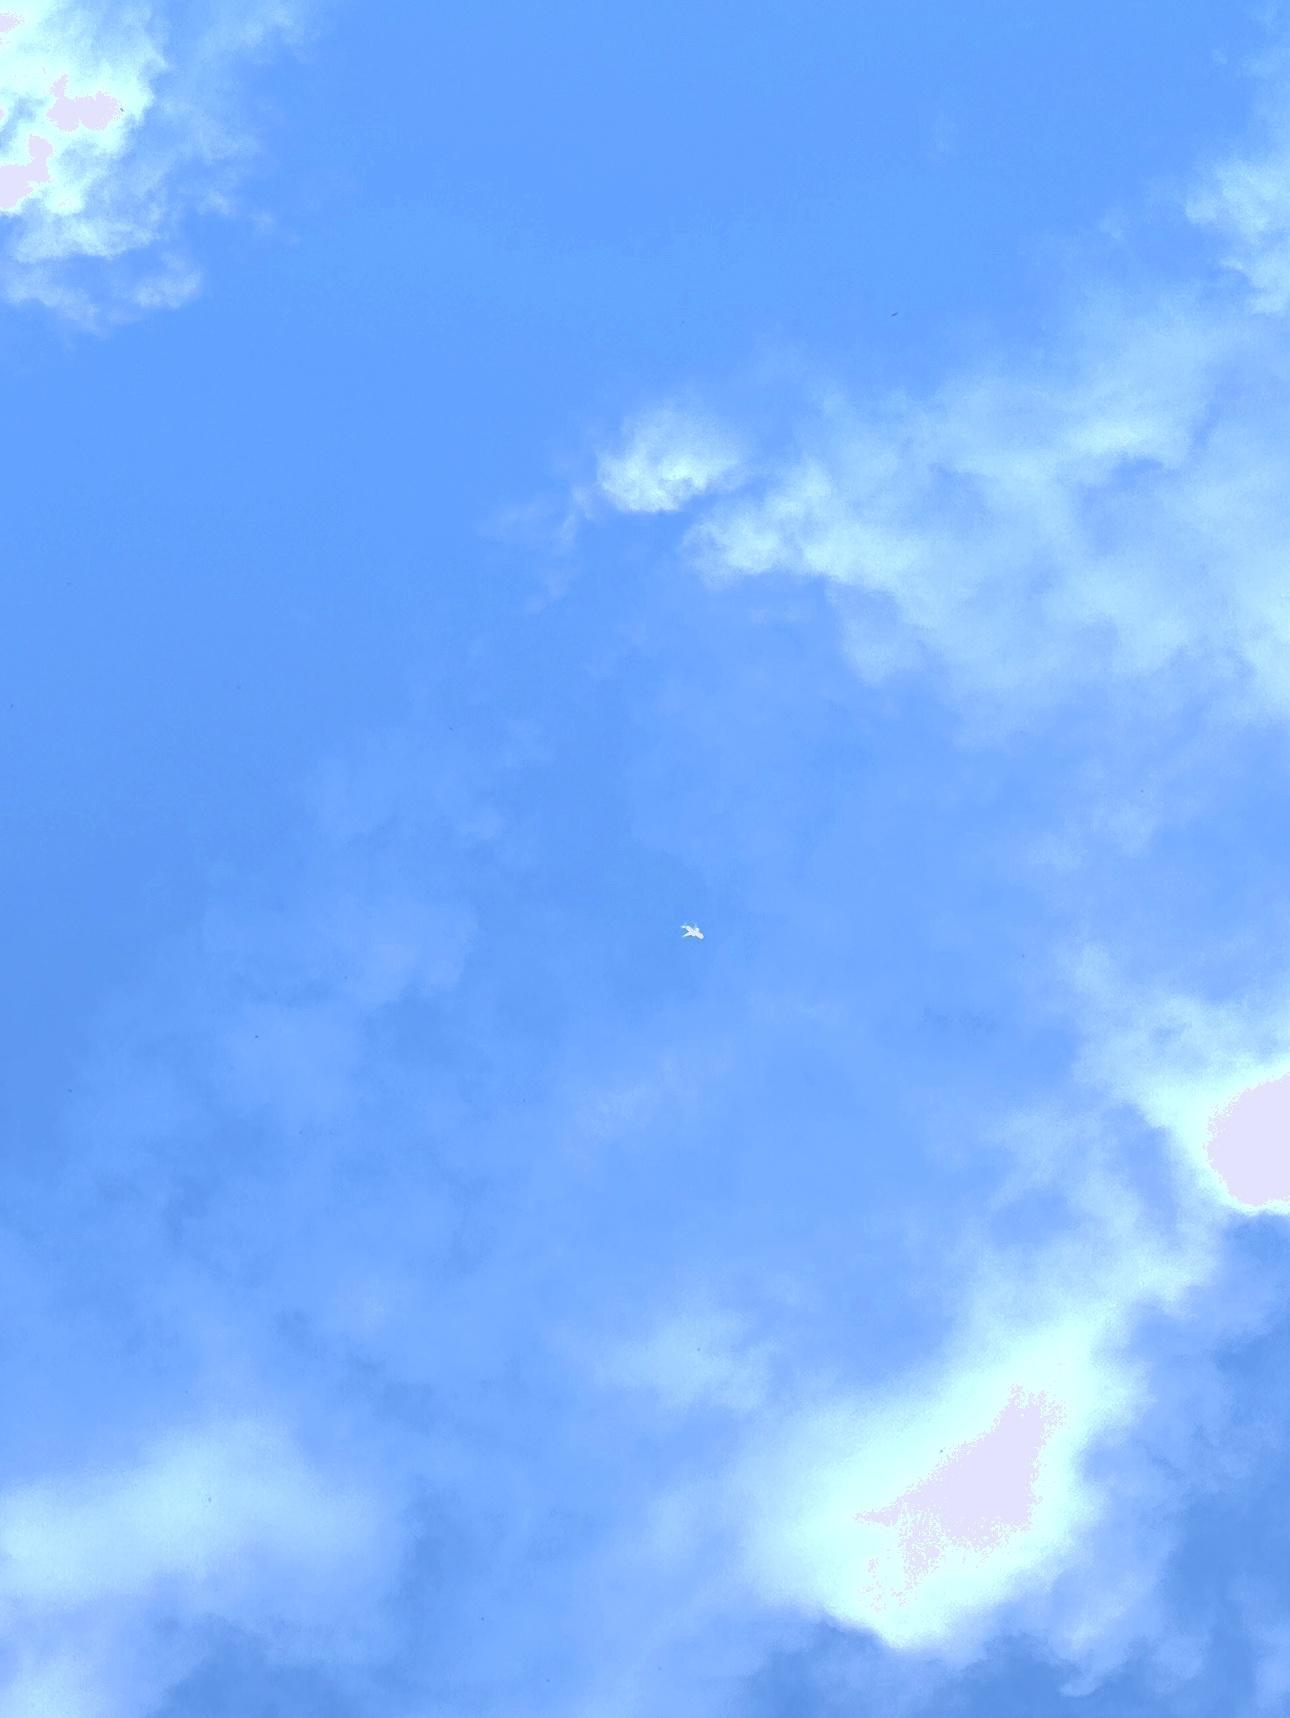Plane: (668, 913, 721, 955)
